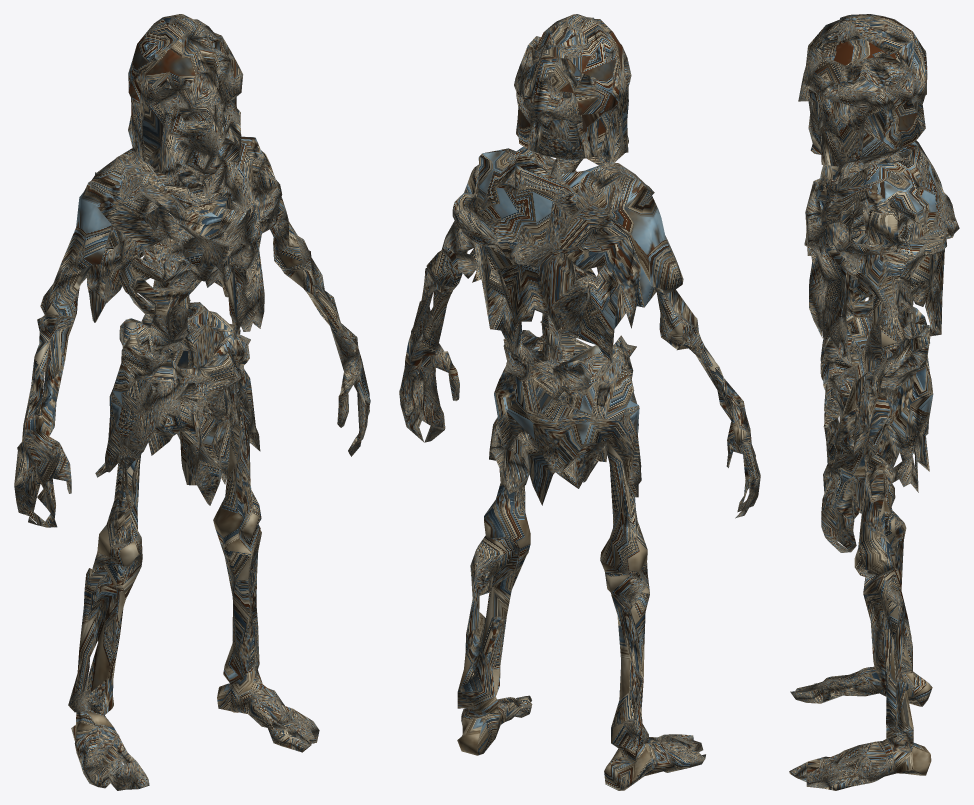
Rendered from glacier_wight.glb.
3 views of the same model, side by side, from view 1: azimuth 30°, elevation 25°; view 2: azimuth 150°, elevation 25°; view 3: azimuth 270°, elevation 25° (orthographic).
Parts seen in each view (by area): view 1: Mesh_0; view 2: Mesh_0; view 3: Mesh_0.
Boxes of the visible parts, left/top/right/bottom form: Mesh_0: left=14, top=14, right=370, bottom=790; Mesh_0: left=399, top=14, right=760, bottom=790; Mesh_0: left=789, top=14, right=959, bottom=790.
Size of the model in its own units: 0.975 by 1.9 by 0.4065.
1 material, 1 textured.
